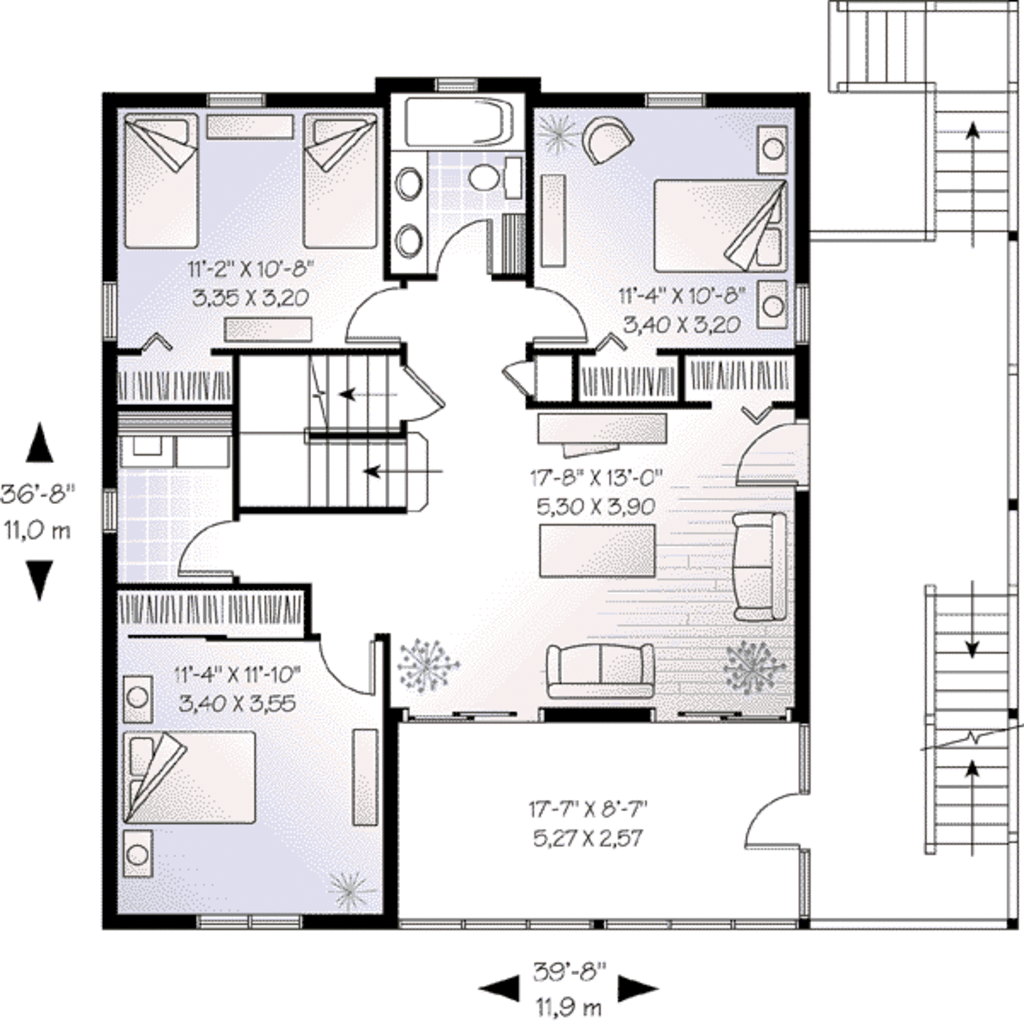bed: (121, 725, 260, 829), (650, 176, 788, 276), (300, 105, 381, 251), (123, 112, 202, 253)
door: (734, 422, 804, 494), (310, 635, 377, 700), (335, 281, 400, 348), (526, 282, 589, 350), (739, 792, 808, 853), (175, 514, 235, 579), (435, 214, 495, 278)
large_sink: (460, 155, 529, 201)
large_sofa: (725, 509, 792, 626), (542, 641, 656, 704)
small_sink: (384, 153, 430, 274), (471, 153, 521, 207)
stairs: (826, 1, 1013, 245), (235, 348, 413, 522), (923, 580, 1017, 856)
tub: (388, 92, 527, 157)
windows: (192, 912, 305, 935), (642, 87, 715, 114), (202, 88, 276, 108), (98, 275, 115, 344), (98, 484, 116, 536)
